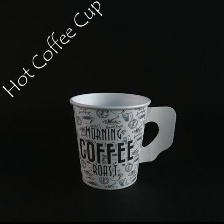paper_cup: (63, 86, 180, 193)
